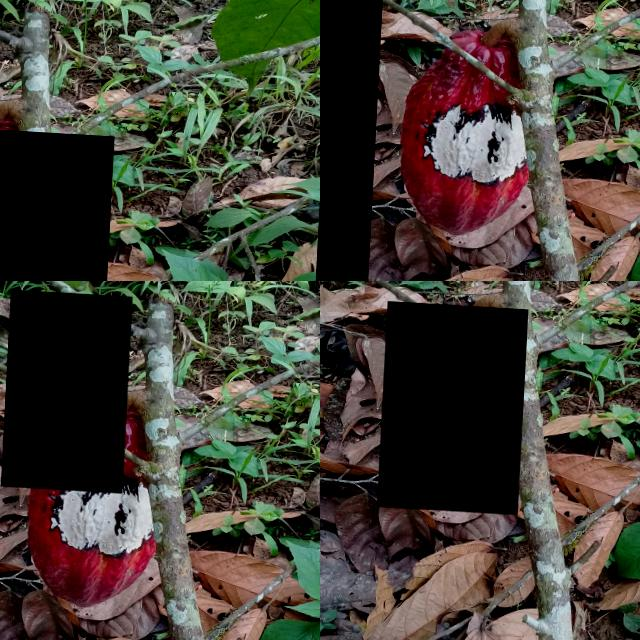Monilia: (382, 298, 530, 510)
Sana: (4, 287, 133, 489), (0, 115, 116, 281), (320, 0, 387, 281), (77, 600, 135, 640), (294, 566, 320, 601)
